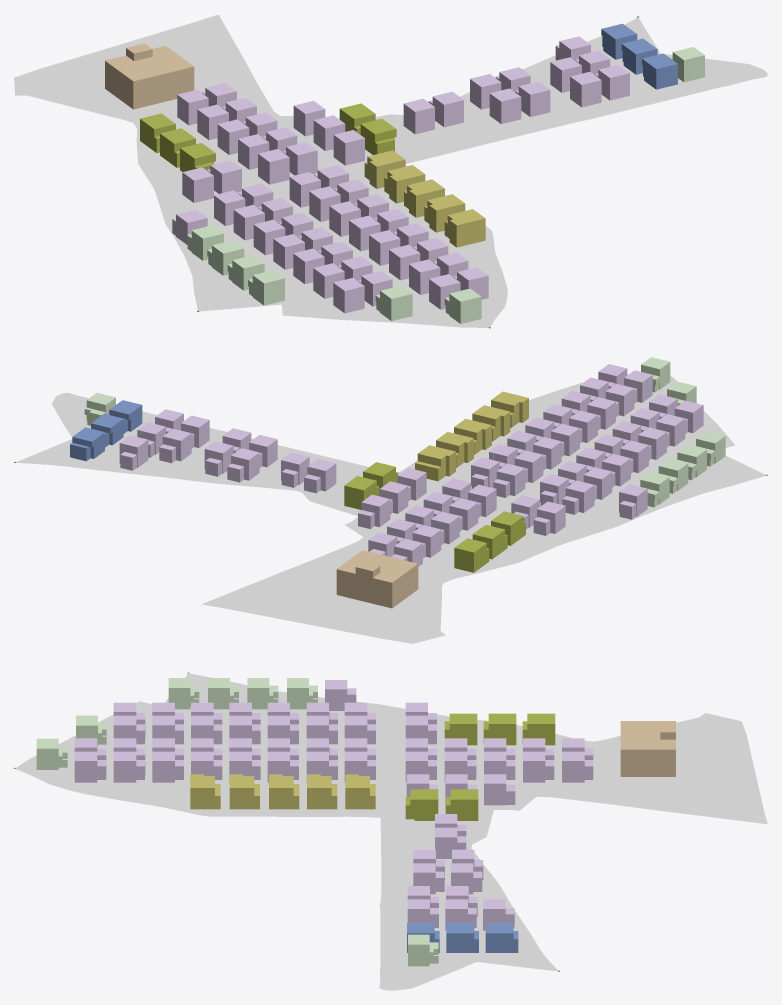
File: Villas x Rishav.glb
3 renders of one model, top to bottom at view 1: azimuth 30°, elevation 25°; view 2: azimuth 150°, elevation 25°; view 3: azimuth 270°, elevation 25°, orthographic. The views are drawn at different scales.
Parts seen in each view (by area): view 1: Landscape, Clubhouse, V27-02 (×5), V16-02 (×5), V02-02 (×3); view 2: Landscape, Clubhouse, V27-02 (×5), V16-02 (×3); view 3: Landscape, Clubhouse, V16-02 (×5), V27-02.
Part boxes in pixels (x1=…): Landscape: x1=14, y1=14, x2=767, y2=327; Clubhouse: x1=105, y1=43, x2=194, y2=109; V27-02 (×5): x1=367, y1=150, x2=485, y2=233; V16-02 (×5): x1=140, y1=103, x2=396, y2=166; V02-02 (×3): x1=601, y1=23, x2=677, y2=75; Landscape: x1=16, y1=374, x2=765, y2=643; Clubhouse: x1=336, y1=550, x2=418, y2=608; V27-02 (×5): x1=417, y1=391, x2=528, y2=466; V16-02 (×3): x1=344, y1=462, x2=486, y2=559; Landscape: x1=15, y1=673, x2=767, y2=990; Clubhouse: x1=620, y1=721, x2=675, y2=776; V16-02 (×5): x1=410, y1=713, x2=555, y2=807; V27-02: x1=229, y1=774, x2=254, y2=795.
Bounding box in the file's own units: 376 × 19 × 377.
